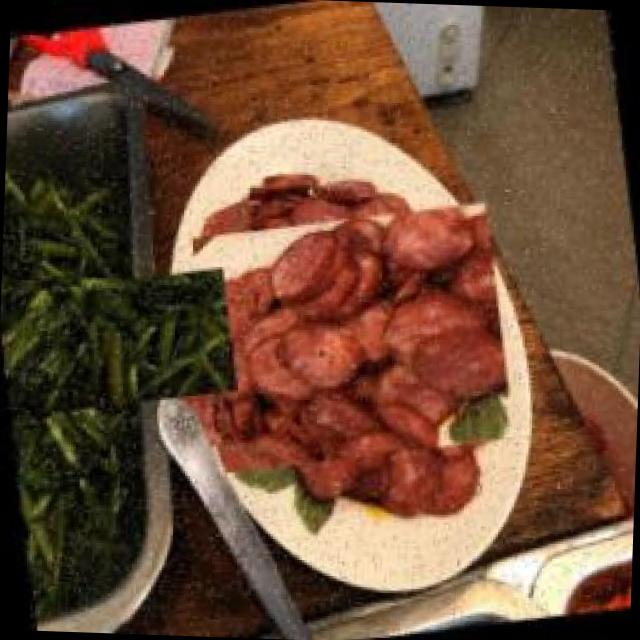chinese_sausage: (194, 178, 513, 497)
water_spinach: (0, 213, 198, 473)
